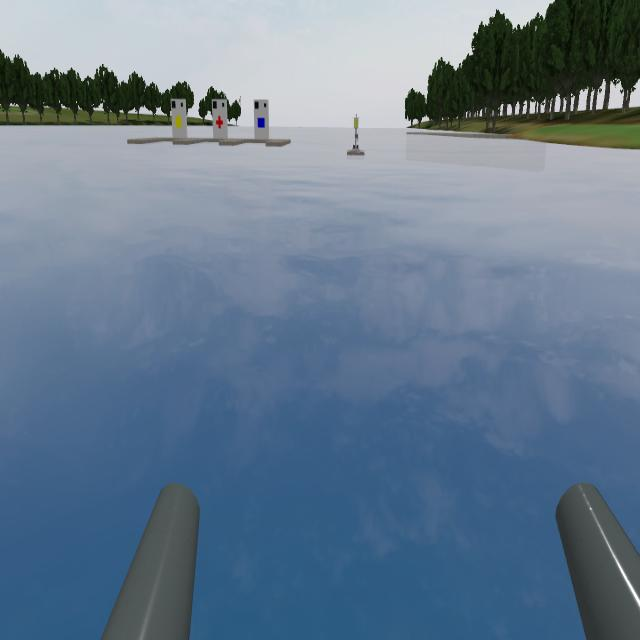yellow_pole: (352, 113, 362, 148)
